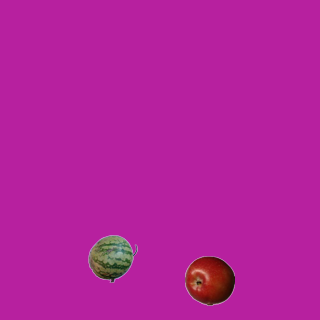Apple Braeburn: (184, 255, 234, 305)
Watermelon: (87, 233, 137, 283)
